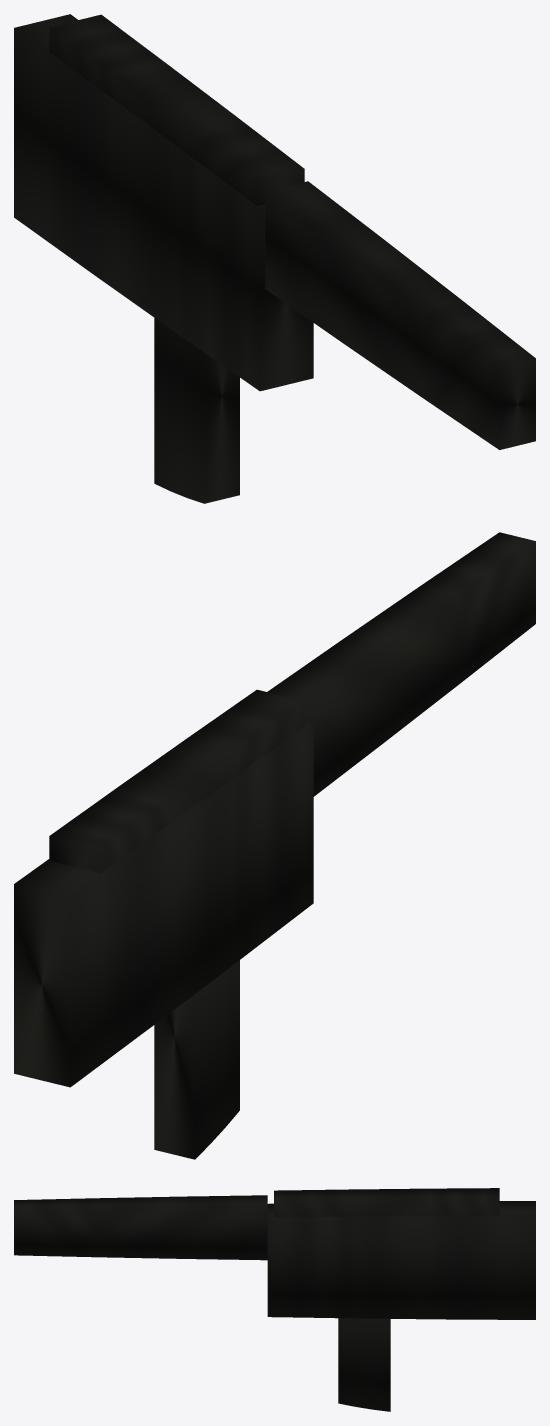
File: wpn_mp5sd_integral.glb
The picture shows the model from 3 angles, top to bottom: view 1: azimuth 30°, elevation 25°; view 2: azimuth 150°, elevation 25°; view 3: azimuth 270°, elevation 25°; orthographic projection. The views are drawn at different scales.
Parts seen in each view (by area): view 1: SubMesh_0_Receiver, SubMesh_3_BarrelSight, SubMesh_1_Action, SubMesh_2_Magazine; view 2: SubMesh_0_Receiver, SubMesh_3_BarrelSight, SubMesh_1_Action, SubMesh_2_Magazine; view 3: SubMesh_0_Receiver, SubMesh_3_BarrelSight, SubMesh_1_Action, SubMesh_2_Magazine.
Boxes of the visible parts, box(x1,y1,x2,y2) form: SubMesh_0_Receiver: box(14, 14, 313, 391); SubMesh_3_BarrelSight: box(265, 181, 535, 449); SubMesh_1_Action: box(49, 14, 304, 205); SubMesh_2_Magazine: box(154, 318, 239, 503); SubMesh_0_Receiver: box(14, 721, 313, 1087); SubMesh_3_BarrelSight: box(267, 532, 535, 796); SubMesh_1_Action: box(49, 689, 304, 873); SubMesh_2_Magazine: box(154, 960, 239, 1159); SubMesh_0_Receiver: box(267, 1201, 535, 1319); SubMesh_3_BarrelSight: box(14, 1195, 267, 1260); SubMesh_1_Action: box(274, 1188, 499, 1217); SubMesh_2_Magazine: box(338, 1318, 390, 1411).
Bounding box in the file's own units: 0.048 × 0.3128 × 0.7.
1 material, 1 textured.
